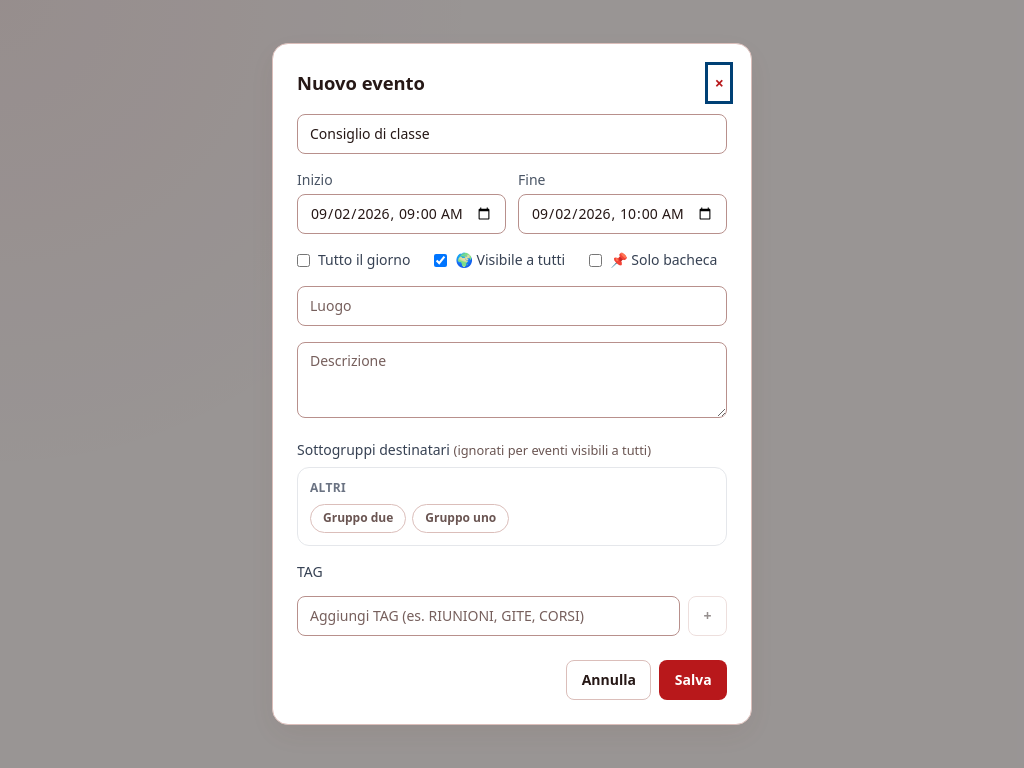
Scenario: EventModal audience selection › keeps saving disabled when Tutti is manually cleared without a subgroup
Click the checkbox labelled "🌍 Visibile a tutti" at (441, 260), box [434,254,447,267]
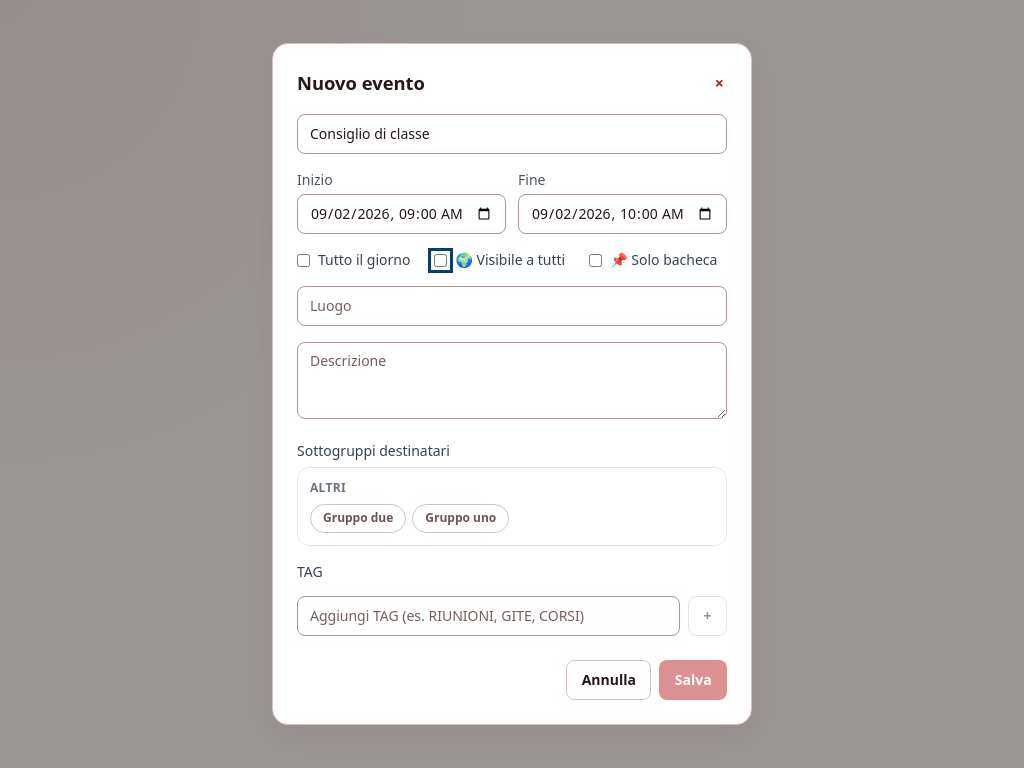
Check: the button "Salva" is disabled, box [659,660,727,700]
